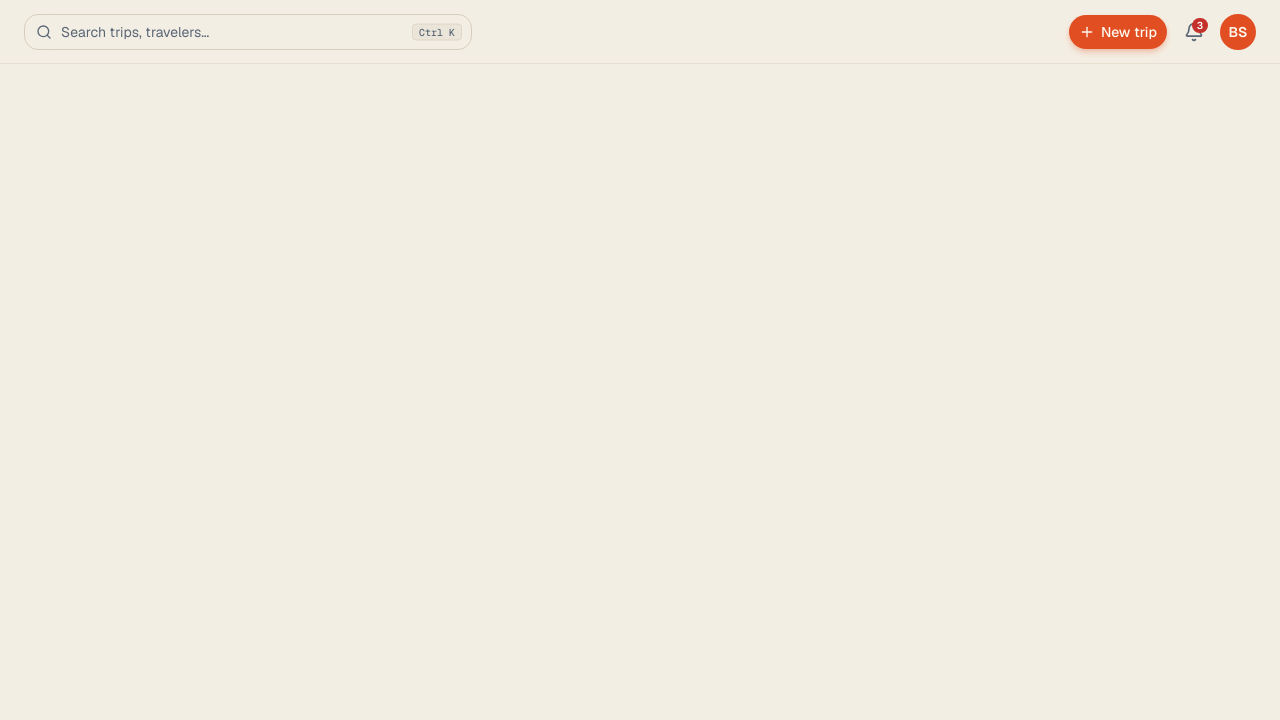
Test: log out › asks before logging out from the top bar, and Cancel keeps you signed in
The width and height of the screenshot is (1280, 720).
Step 1. Click the button "BS" → (1238, 32), box [1220, 14, 1256, 50]
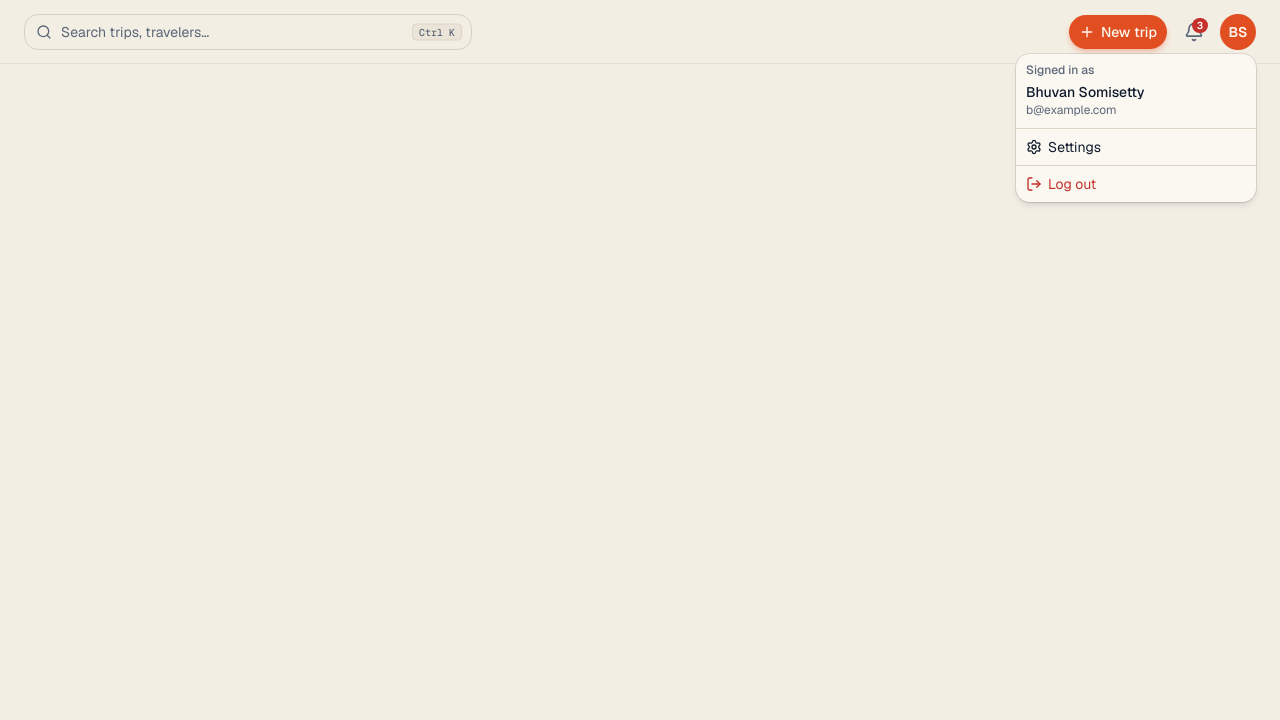
Step 2. Click the menu item "Log out" → (1061, 184), box [1026, 175, 1096, 193]
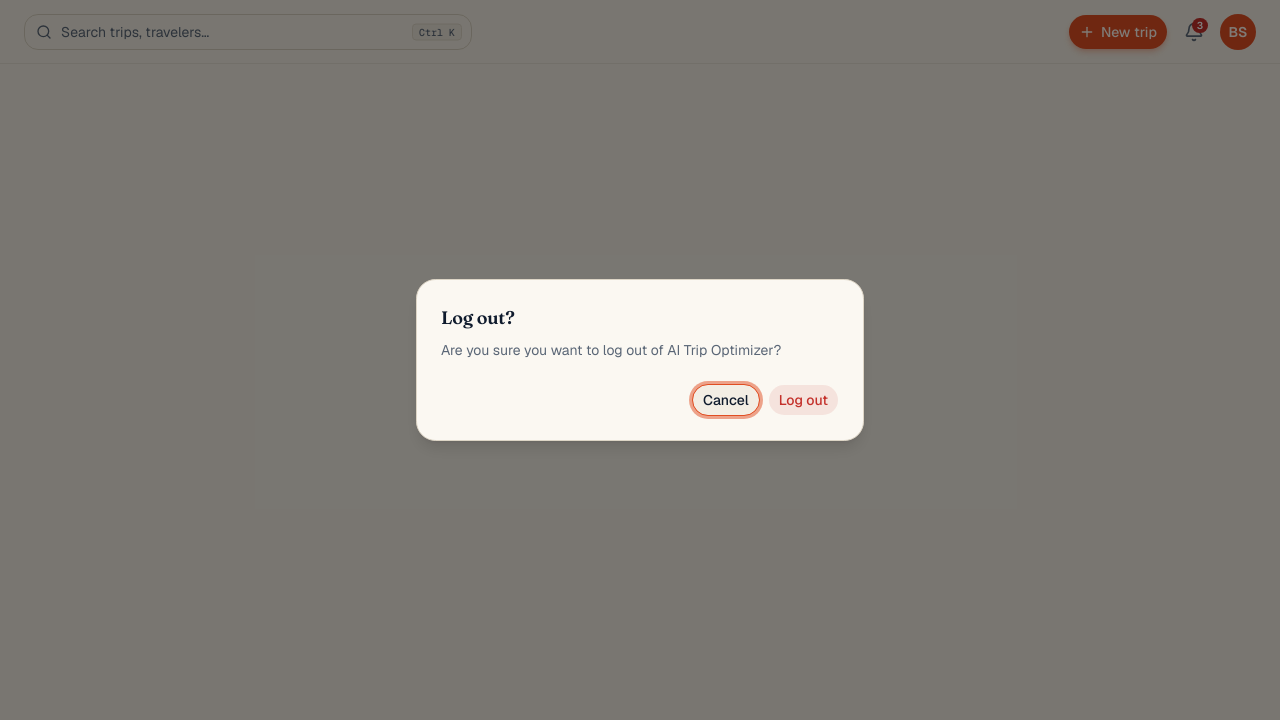
Now the dialog "Log out?" is shown, box [416, 279, 864, 441]
Step 3. Click the button "Cancel" → (726, 400), box [692, 384, 760, 416]
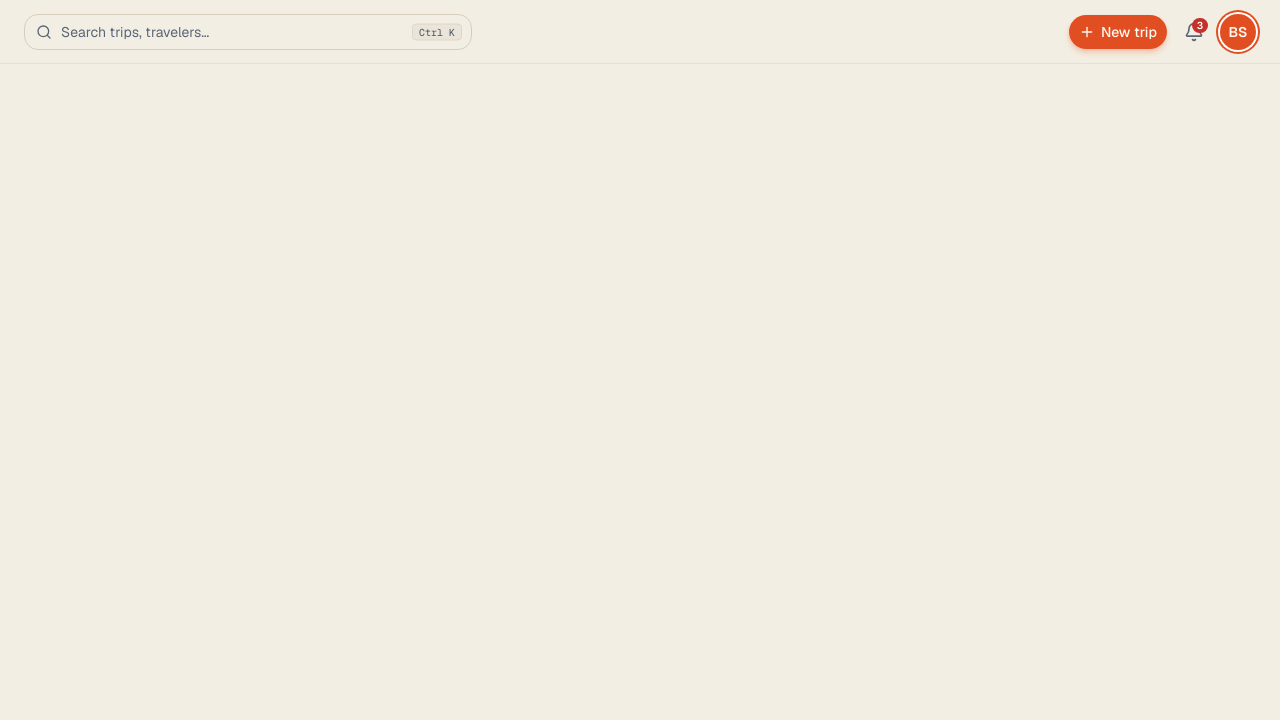
Now the dialog is gone
